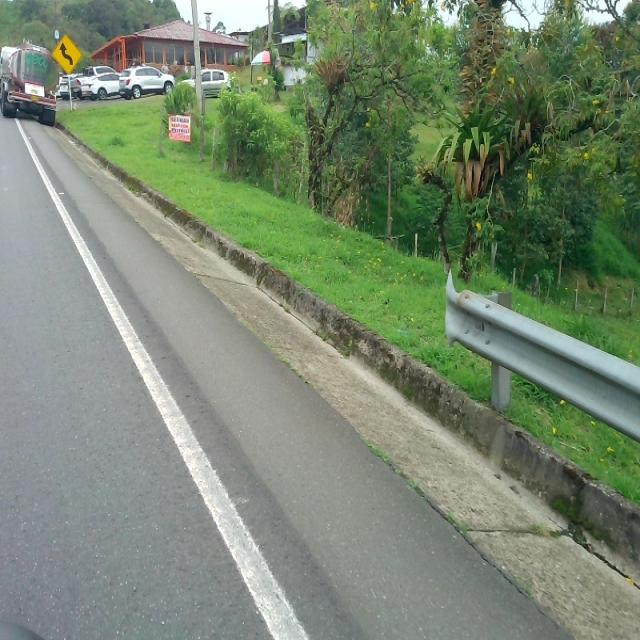DITCH: (36, 116, 638, 637)
